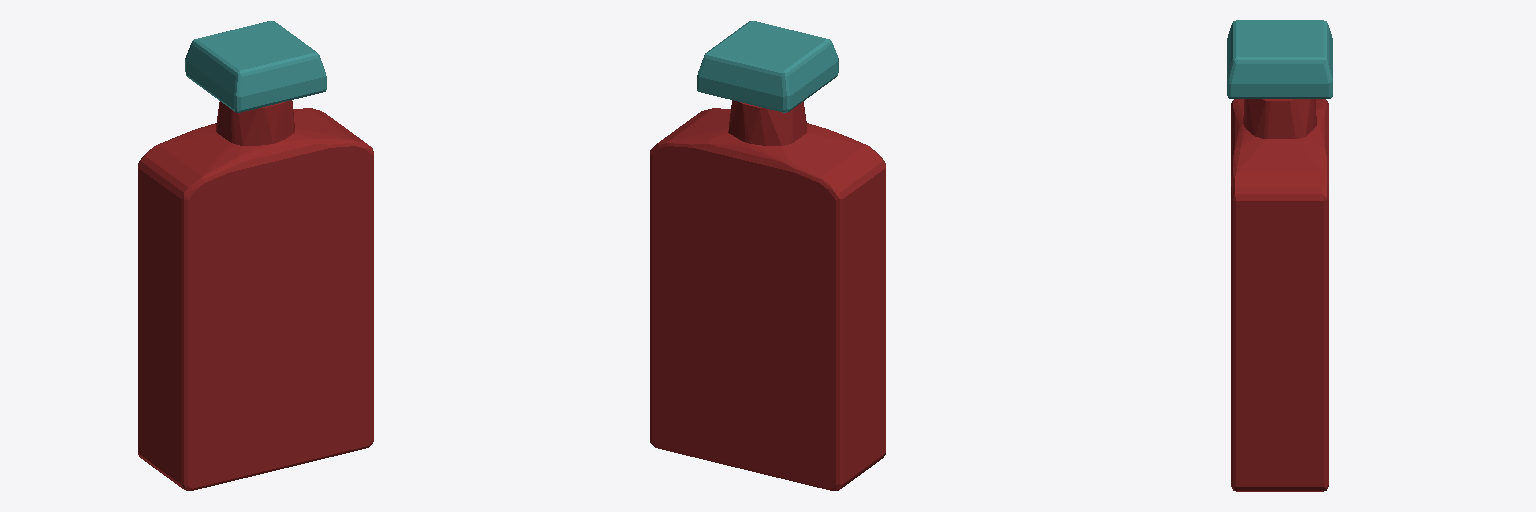
URDF robot description (root):
<robot name="root">
  <link name="bottle_body">
    <inertial>
      <origin xyz="0 0 0" rpy="0 0 0"/>
    </inertial>
    <mass value="1.00E-02"/>
    <visual>
      <origin xyz="0 0 0" rpy="0 0 0"/>
      <geometry>
        <mesh filename="core-bottle-ed55f39e04668bf9837048966ef3fcb9-coacd_convex_piece_2.obj" scale="1.0000E-01 1.0000E-01 1.0000E-01"/>
      </geometry>
      <material name="">
        <color rgba="6.00E-01 2.00E-01 2.00E-01 1"/>
      </material>
    </visual>
    <collision>
      <origin xyz="0 0 0" rpy="0 0 0"/>
      <geometry>
        <mesh filename="core-bottle-ed55f39e04668bf9837048966ef3fcb9-coacd_convex_piece_2.obj" scale="1.0000E-01 1.0000E-01 1.0000E-01"/>
      </geometry>
    </collision>
    <visual>
      <origin xyz="0 0 0" rpy="0 0 0"/>
      <geometry>
        <mesh filename="core-bottle-ed55f39e04668bf9837048966ef3fcb9-coacd_convex_piece_0.obj" scale="1.0000E-01 1.0000E-01 1.0000E-01"/>
      </geometry>
      <material name="">
        <color rgba="6.00E-01 2.00E-01 2.00E-01 1"/>
      </material>
    </visual>
    <collision>
      <origin xyz="0 0 0" rpy="0 0 0"/>
      <geometry>
        <mesh filename="core-bottle-ed55f39e04668bf9837048966ef3fcb9-coacd_convex_piece_0.obj" scale="1.0000E-01 1.0000E-01 1.0000E-01"/>
      </geometry>
    </collision>
  </link>
  <link name="bottle_cap">
    <origin xyz="0 0 0.002" rpy="0 0 0"/>
    <mass value="1.00E-02"/>
    <visual>
      <origin xyz="0 0 0.002" rpy="0 0 0"/>
      <geometry>
        <mesh filename="core-bottle-ed55f39e04668bf9837048966ef3fcb9-coacd_convex_piece_1.obj" scale="1.0000E-01 1.0000E-01 1.0000E-01"/>
      </geometry>
      <material name="">
        <color rgba="3.00E-01 6.00E-01 6.00E-01 1"/>
      </material>
    </visual>
    <collision>
      <origin xyz="0 0 0.002" rpy="0 0 0"/>
      <geometry>
        <mesh filename="core-bottle-ed55f39e04668bf9837048966ef3fcb9-coacd_convex_piece_1.obj" scale="1.0000E-01 1.0000E-01 1.0000E-01"/>
      </geometry>
    </collision>
  </link>
  <joint name="bottle_cap_joint" type="revolute">
    <origin xyz="0 0 0" rpy="0 0 0"/>
    <parent link="bottle_body"/>
    <child link="bottle_cap"/>
    <axis xyz="0 0 1"/>
    <limit lower="0.00" upper="6.28"/>
    <dynamics damping="0.05"/>
  </joint>
</robot>

--- Facts derived from the render (not from the file) ---
3 views of the same robot in one strip: view 1: azimuth 30°, elevation 25°; view 2: azimuth 150°, elevation 25°; view 3: azimuth 270°, elevation 25° (orthographic).
Model root with 2 links and 1 joints (1 revolute), rooted at bottle_body, posed every joint at zero.
Visible links, largest first — view 1: bottle_body, bottle_cap; view 2: bottle_body, bottle_cap; view 3: bottle_body, bottle_cap.
Boxes of the visible links, x1,y1,x2,y2 form: bottle_body: (138,100,373,490); bottle_cap: (185,21,326,112); bottle_body: (650,100,885,490); bottle_cap: (697,21,838,112); bottle_body: (1231,99,1328,491); bottle_cap: (1227,20,1332,98).
Size in the robot's own frame: 0.0881 by 0.0421 by 0.1782 metres.
3 mesh visuals loaded from 3 distinct referenced files (3 OBJ).